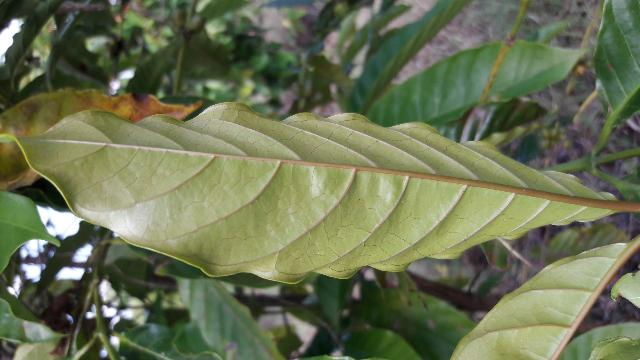healthy: (0, 100, 626, 284)
